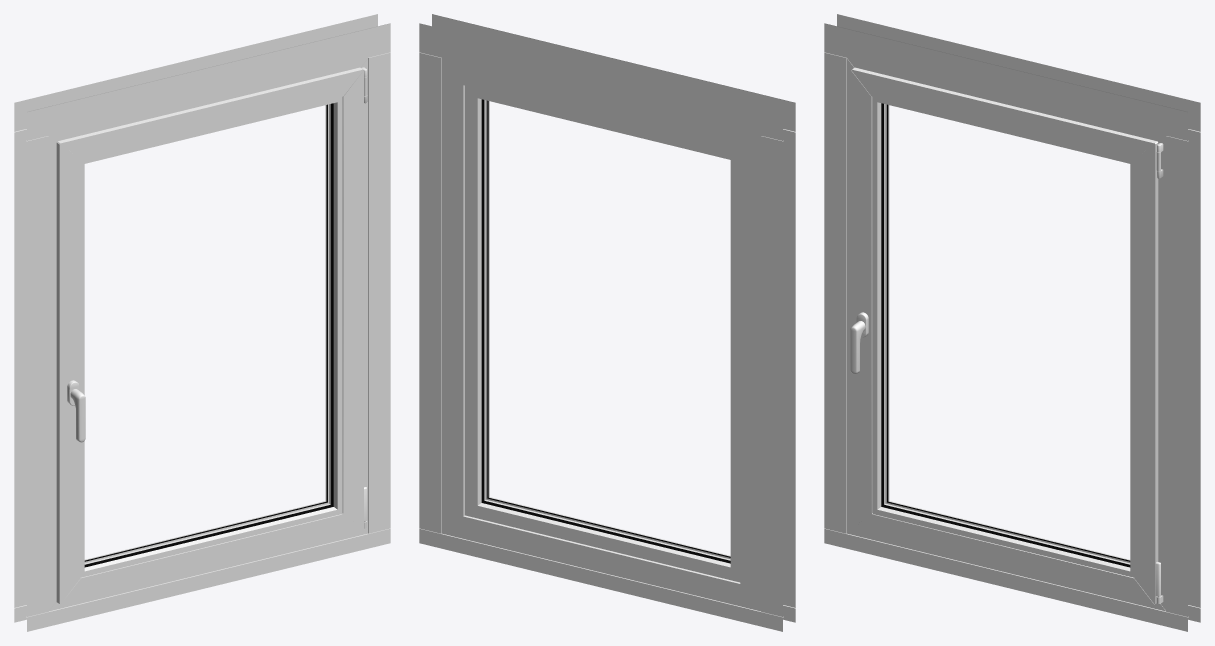
The model's file is Window.glb.
3 views of the same model, side by side, from view 1: azimuth 30°, elevation 25°; view 2: azimuth 150°, elevation 25°; view 3: azimuth 330°, elevation 25° (orthographic).
Visible parts, largest first — view 1: WindowOuterFrame, WindowGlassFrame, Handle; view 2: WindowOuterFrame, WindowGlassFrame; view 3: WindowOuterFrame, WindowGlassFrame, Handle.
Boxes of the visible parts, x1=… form: WindowOuterFrame: x1=14, y1=14, x2=390, y2=631; WindowGlassFrame: x1=56, y1=67, x2=367, y2=604; Handle: x1=70, y1=389, x2=85, y2=442; WindowOuterFrame: x1=419, y1=14, x2=795, y2=631; WindowGlassFrame: x1=465, y1=85, x2=740, y2=582; WindowOuterFrame: x1=824, y1=14, x2=1200, y2=631; WindowGlassFrame: x1=851, y1=67, x2=1160, y2=604; Handle: x1=850, y1=321, x2=865, y2=374.
Size of the model in its own units: 1.04 by 1.42 by 0.128.
1 material, 1 textured.
